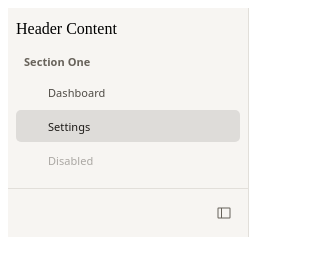
Test: Sidebar › collapses to glyphs, keeps labels for assistive tech and shows the toggle
Click the button named "Collapse sidebar" at {"x": 224, "y": 213}, box x1=208 y1=197 x2=240 y2=229
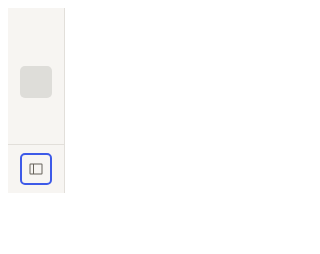
Check: the 1st button named "Dashboard" is shown, box x1=20 y1=32 x2=52 y2=64
Check: the text "Section One" is gone
Check: the button named "Expand sidebar" is shown, box x1=20 y1=153 x2=52 y2=185
